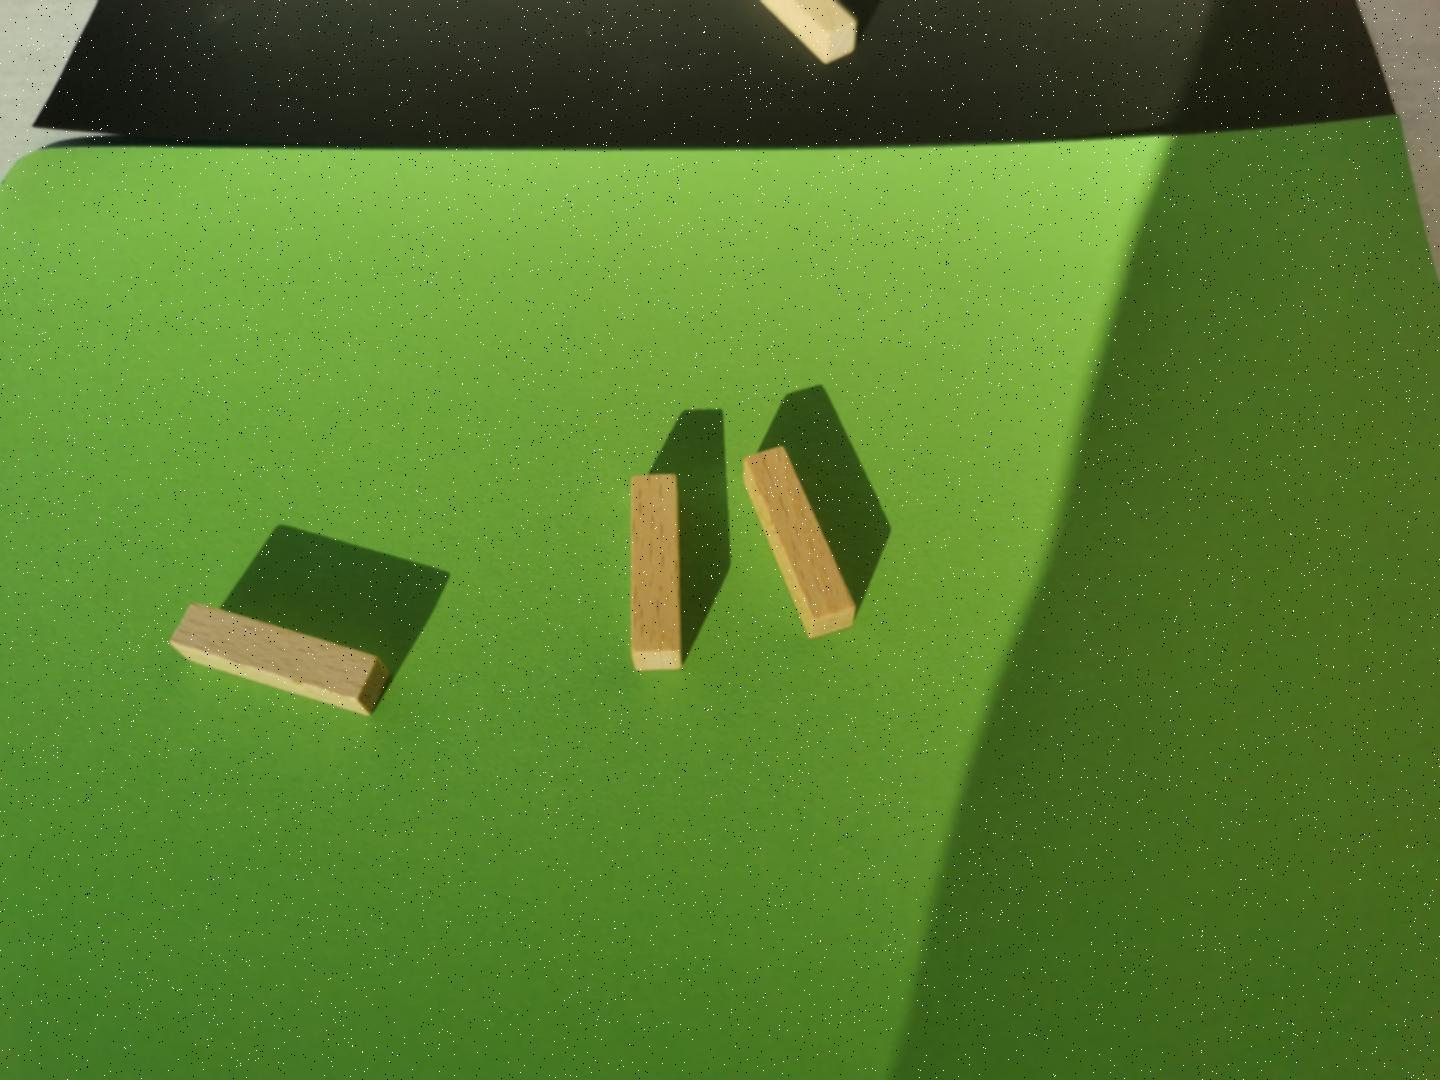jenga: (171, 605, 388, 715), (743, 447, 855, 639), (630, 472, 680, 669)
